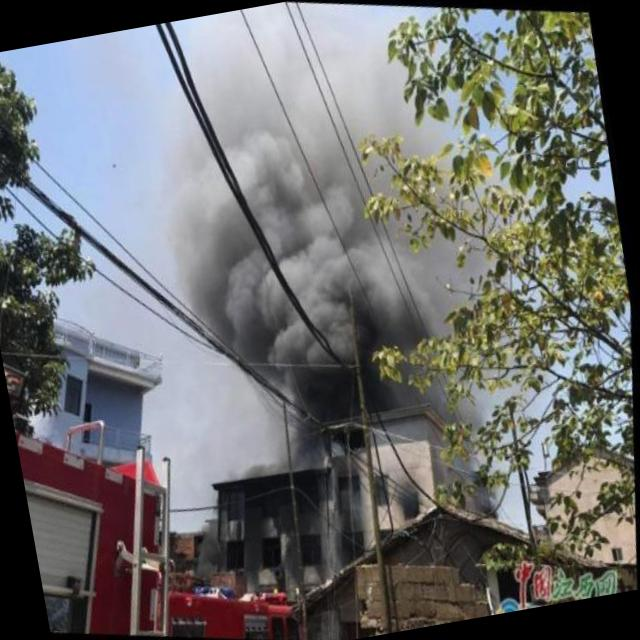Smoke: (218, 246, 368, 417), (268, 0, 425, 161), (170, 1, 310, 168), (258, 122, 394, 286), (158, 149, 286, 286), (357, 234, 457, 347)
